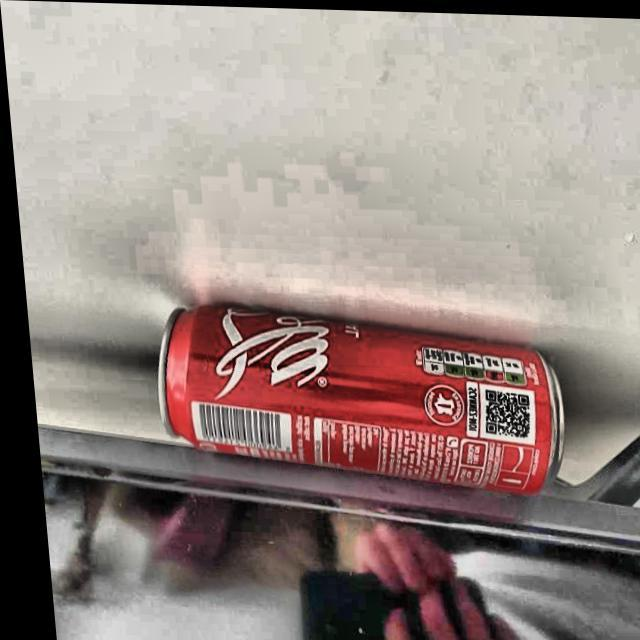can: (133, 293, 572, 495)
